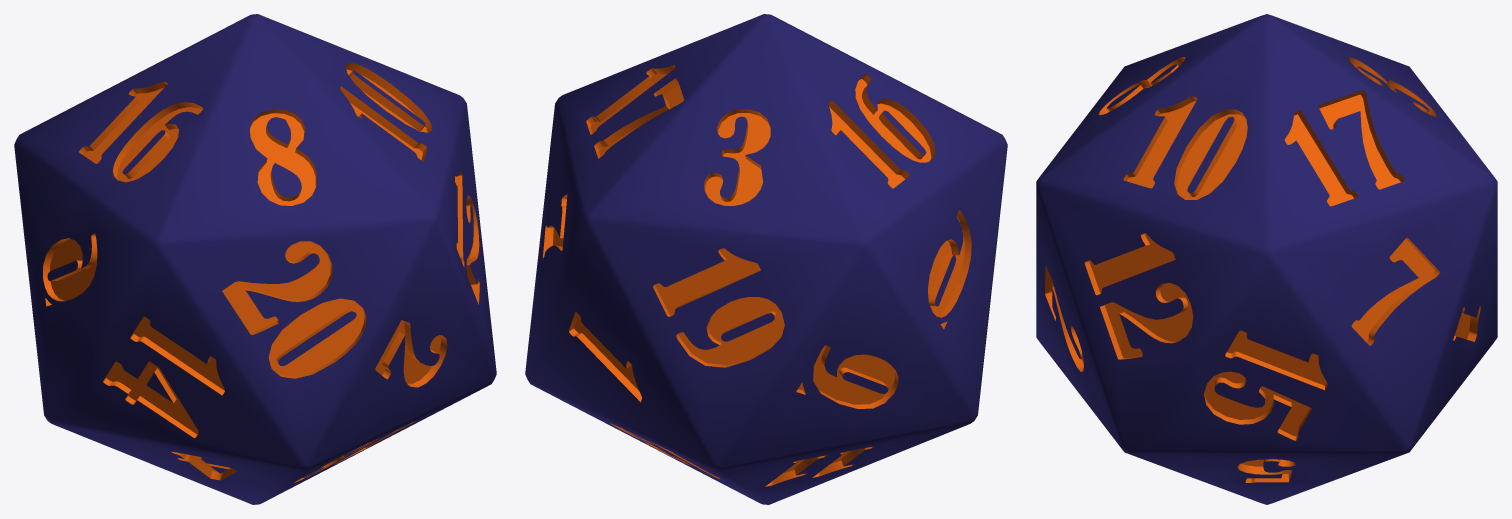
The model's file is dice20a.glb.
3 renders of one model, left to right at view 1: azimuth 30°, elevation 25°; view 2: azimuth 150°, elevation 25°; view 3: azimuth 270°, elevation 25°, orthographic.
Visible parts, largest first — view 1: A, B; view 2: A, B; view 3: A, B.
Part boxes in pixels (x1,y1,x2,y2): A: [14, 14, 496, 504]; B: [43, 63, 479, 482]; A: [525, 14, 1007, 504]; B: [543, 65, 971, 486]; A: [1036, 14, 1497, 504]; B: [1045, 57, 1480, 482].
Size of the model in its own units: 8.89 by 9.83 by 8.46.
